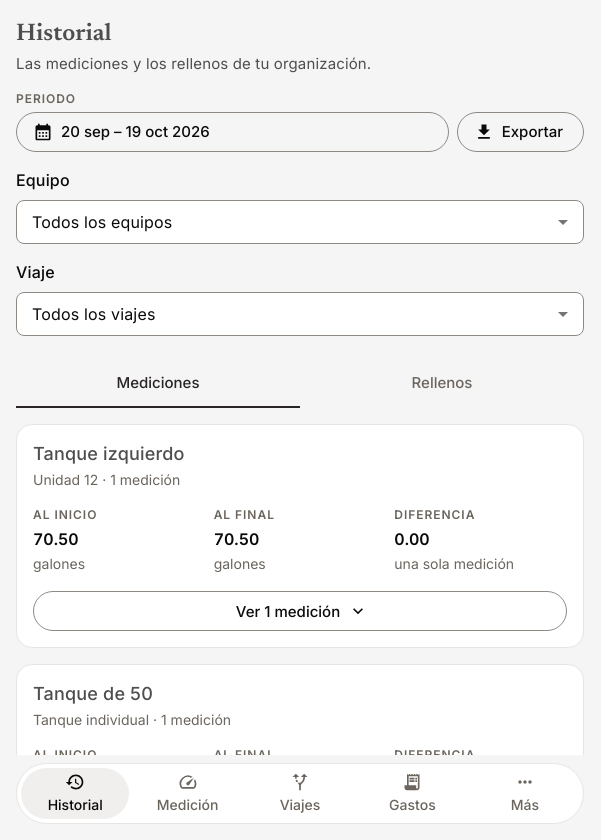
Test: measurements are grouped by tank with author, city, estimate and odometer (CA-6)
Check: the element "Tanque izquierdo" shows "Unidad 12 · 1 medición", box [33,470,180,488]
Click the button "Ver 1 medición" at coordinates (300, 611), box [33,591,567,631]
(page scrolled)
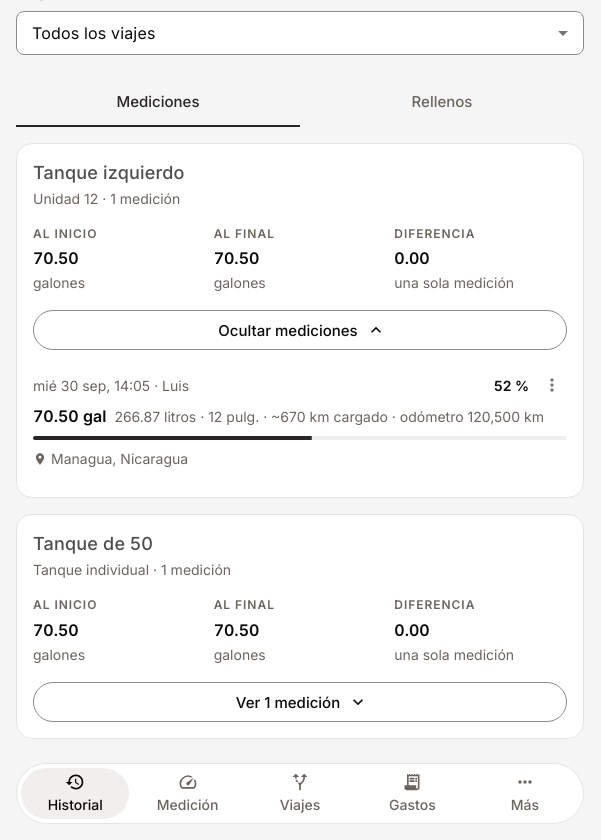
Check: the list item shows "Luis", box [162,377,189,394]
Check: the list item shows "70.50 gal", box [33,358,567,481]
Check: the list item shows "~670 km cargado", box [259,408,388,425]
Click the button "Ver 1 medición" at coordinates (300, 702), box [33,682,567,722]
(page scrolled)
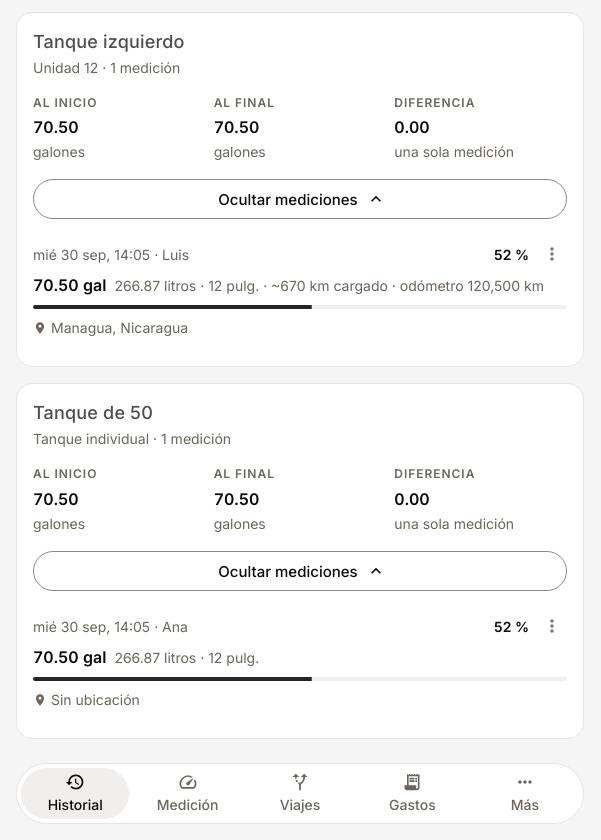
Check: the 2nd list item shows "Sin ubicación", box [51,691,140,708]
